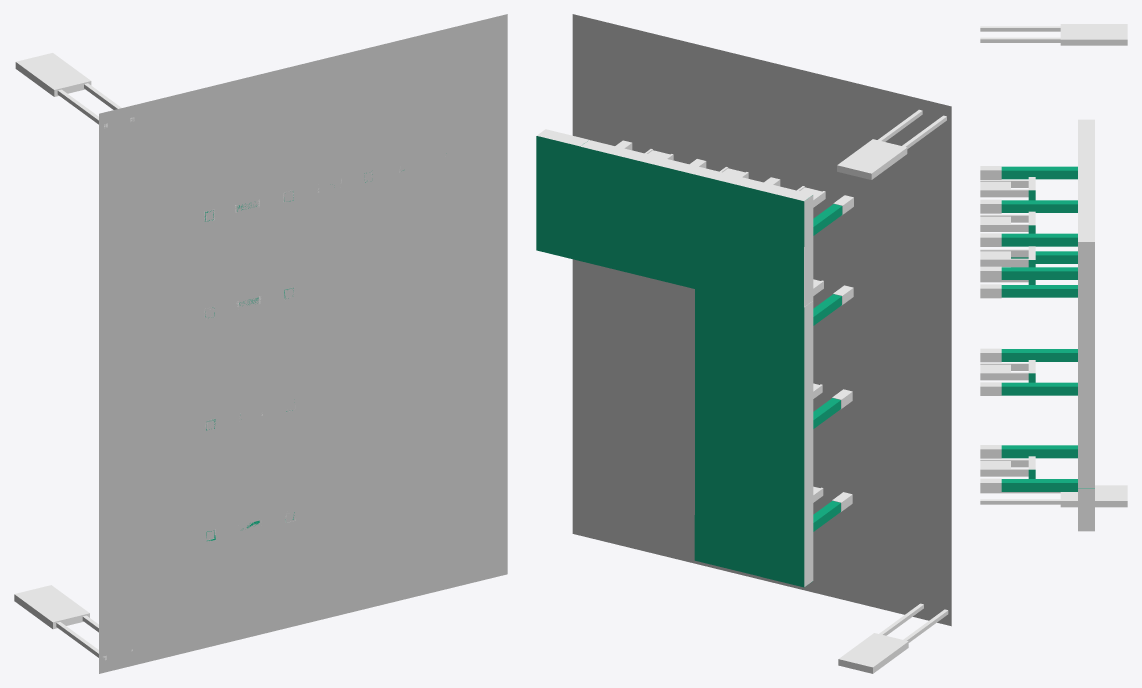
3 views of the same model, side by side, from view 1: azimuth 30°, elevation 25°; view 2: azimuth 150°, elevation 25°; view 3: azimuth 270°, elevation 25° (orthographic). The views are drawn at different scales.
Visible parts, largest first — view 1: imagetostl_mesh; view 2: imagetostl_mesh; view 3: imagetostl_mesh.
Part boxes in pixels (x1,y1,x2,y2): imagetostl_mesh: (14, 14, 507, 673); imagetostl_mesh: (536, 14, 951, 673); imagetostl_mesh: (980, 24, 1127, 531).
Bounding box in the file's own units: 240782 × 315518 × 86652.
